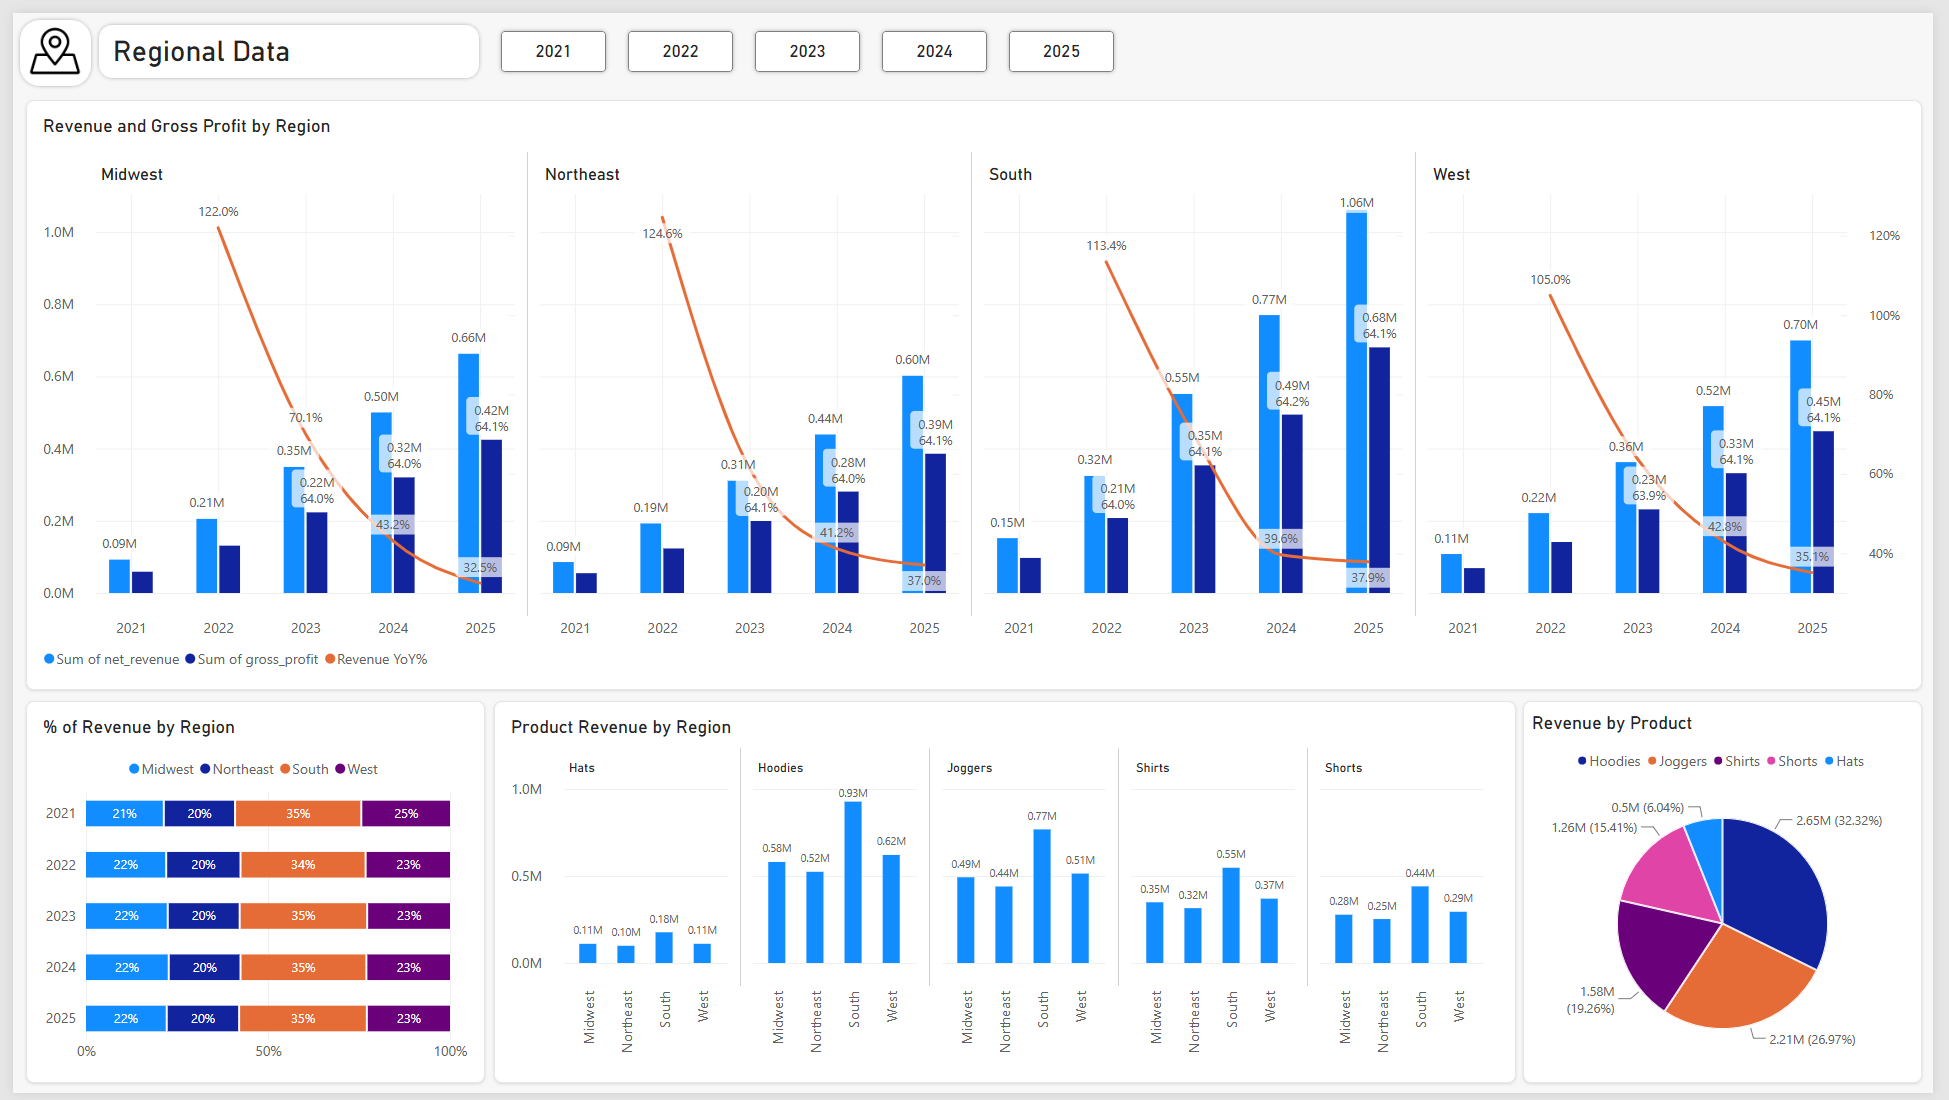

The dashboard page shown, as its layout file describes it:
{"tool":"powerbi","page":{"name":"Regional Data","canvas":[1920,1080],"ordinal":3},"visuals":[{"type":"lineClusteredColumnComboChart","title":"Revenue and Gross Profit by Region","fields":{"Category":["dtc dim_date.date.Variation.Date Hierarchy.Year","dtc dim_date.date.Variation.Date Hierarchy.Quarter","dtc dim_date.date.Variation.Date Hierarchy.Month","dtc dim_date.date.Variation.Date Hierarchy.Day"],"Y":["Sum(dtc fact_orders.net_revenue)","Sum(dtc fact_orders.gross_profit)"],"Rows":["dtc fact_orders.customer_region"],"Y2":["dtc fact_orders.Revenue YoY%"]},"box":[12.8,87.4,1896.4,589.9],"z":0},{"type":"hundredPercentStackedBarChart","title":"% of Revenue by Region","fields":{"Y":["Sum(dtc fact_orders.net_revenue)"],"Category":["dtc dim_date.date.Variation.Date Hierarchy.Year","dtc dim_date.date.Variation.Date Hierarchy.Quarter","dtc dim_date.date.Variation.Date Hierarchy.Month"],"Series":["dtc fact_orders.customer_region"]},"box":[13,688,459,382],"z":1000},{"type":"clusteredColumnChart","title":"Product Revenue by Region","fields":{"Y":["Sum(dtc fact_orders.net_revenue)"],"Category":["dtc fact_orders.customer_region"],"Rows":["dtc dim_product.product_name"]},"box":[481,688,1022,382],"z":2000},{"type":"pieChart","title":"Revenue by Product","fields":{"Category":["dtc dim_product.product_name"],"Y":["Sum(dtc fact_orders.net_revenue)"]},"box":[1510,688,399,382],"z":3000},{"type":"advancedSlicerVisual","fields":{"Values":["dtc dim_date.date.Variation.Date Hierarchy.Year"]},"box":[481,11,629,55],"z":4000},{"type":"shape","box":[2.5,2.8,79.2,74.6],"z":5000},{"type":"shape","box":[82,7.9,388.3,61.3],"z":6000},{"type":"textbox","box":[99.8,20.8,350.8,39.5],"z":7000},{"type":"image","box":[15,10,54,55],"z":8000}]}

Visuals, with their boxes in screenshot pixels (x1, y1, x2, y2), scaled from the page's 1920x1080 canvas onto the 1949x1100 screenshot:
"Revenue and Gross Profit by Region" lineClusteredColumnComboChart: <box>13,89,1938,690</box>
"% of Revenue by Region" hundredPercentStackedBarChart: <box>13,701,479,1090</box>
"Product Revenue by Region" clusteredColumnChart: <box>488,701,1526,1090</box>
"Revenue by Product" pieChart: <box>1533,701,1938,1090</box>
advancedSlicerVisual - dtc dim_date.date.Variation.Date Hierarchy.Year: <box>488,11,1127,67</box>
shape: <box>3,3,83,79</box>
shape: <box>83,8,477,70</box>
textbox: <box>101,21,457,61</box>
image: <box>15,10,70,66</box>
